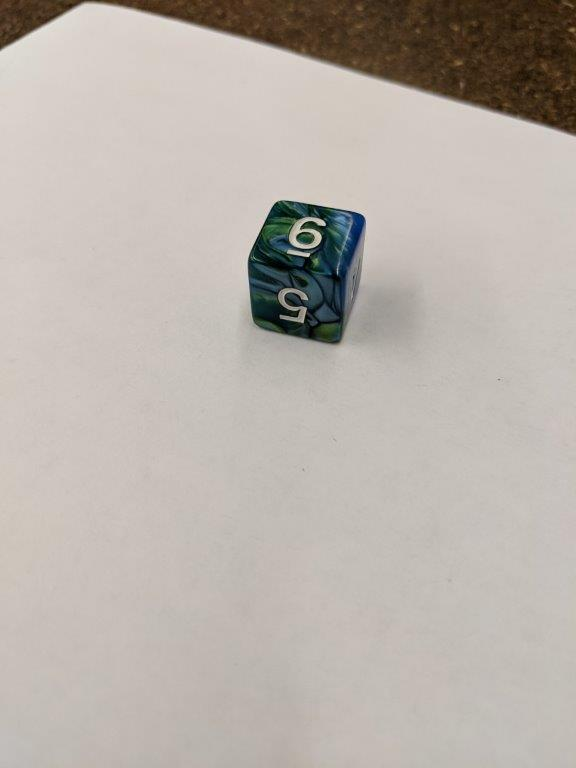d6-6: (249, 200, 365, 345)
